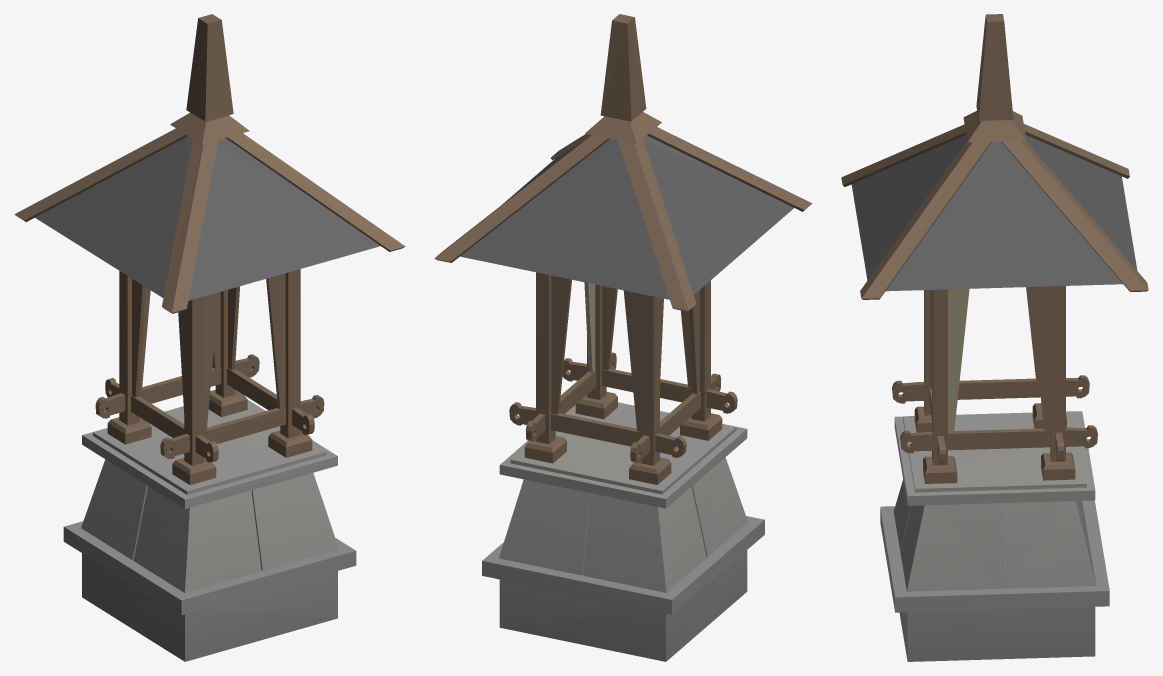
The model's file is cn_lamp_2.glb.
The picture shows the model from 3 angles, left to right: view 1: azimuth 30°, elevation 25°; view 2: azimuth 150°, elevation 25°; view 3: azimuth 270°, elevation 25°; orthographic projection. The views are drawn at different scales.
Parts seen in each view (by area): view 1: cn_lamp_2; view 2: cn_lamp_2; view 3: cn_lamp_2.
Boxes of the visible parts, x1,y1,x2,y2 form: cn_lamp_2: [14, 14, 405, 661]; cn_lamp_2: [434, 14, 812, 661]; cn_lamp_2: [841, 14, 1148, 661].
Size of the model in its own units: 1.16 by 2.5 by 1.16.
